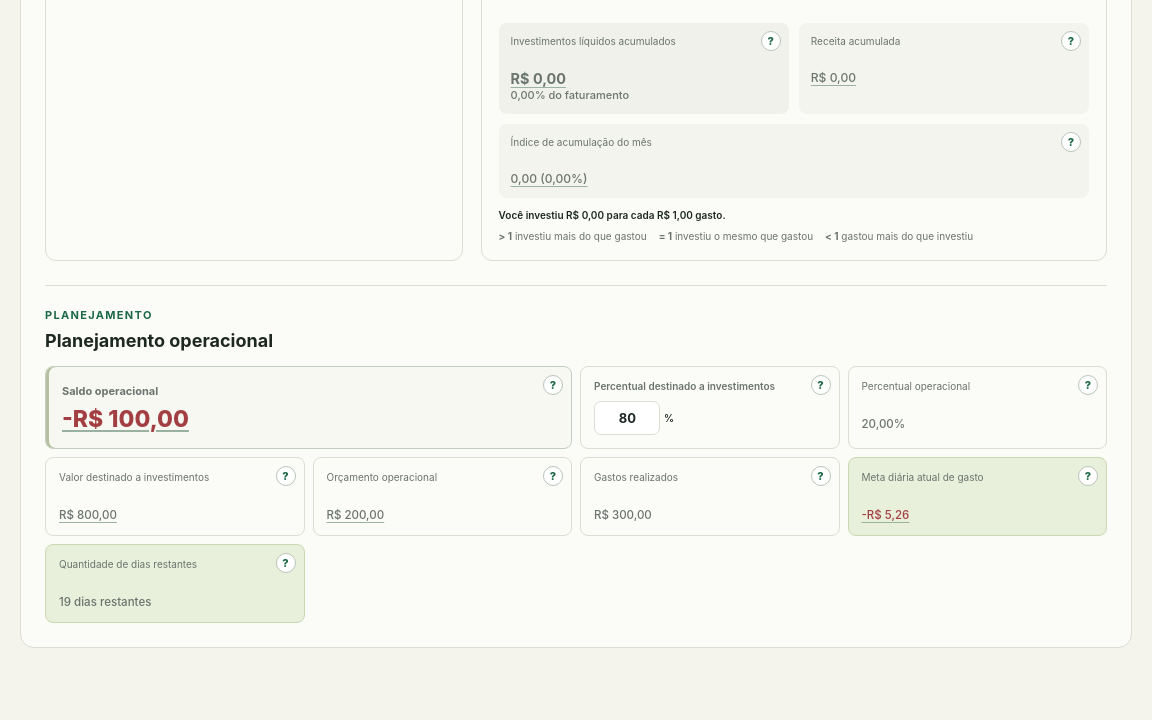
Test: memória de cálculo operacional › fecha por backdrop e botão e mantém a ajuda contextual
This screenshot has width=1152, height=720.
(page scrolled)
Check: the button named "Ajuda sobre Saldo operacional" is shown, box [543, 375, 563, 395]
Step 1. Click the button "-R$ 100,00" → (126,419), box [58, 404, 193, 435]
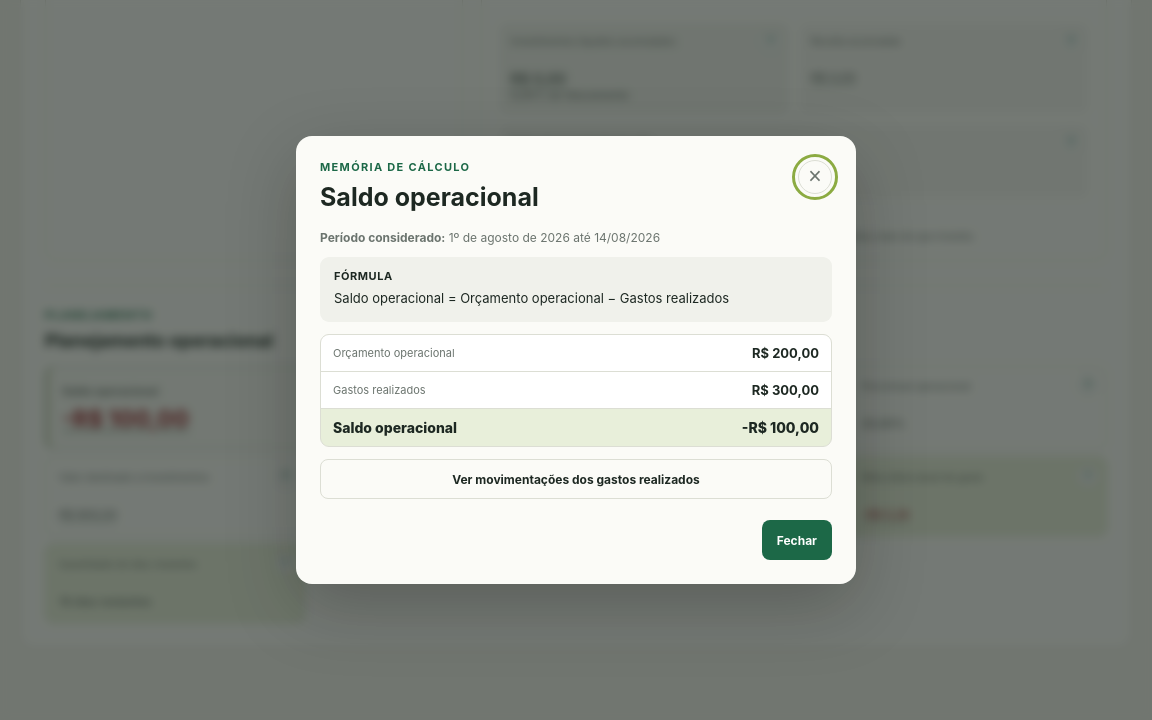
Step 2. Press the mouse on the element with class "modal-backdrop" → (576,360), box [0, 0, 1151, 719]
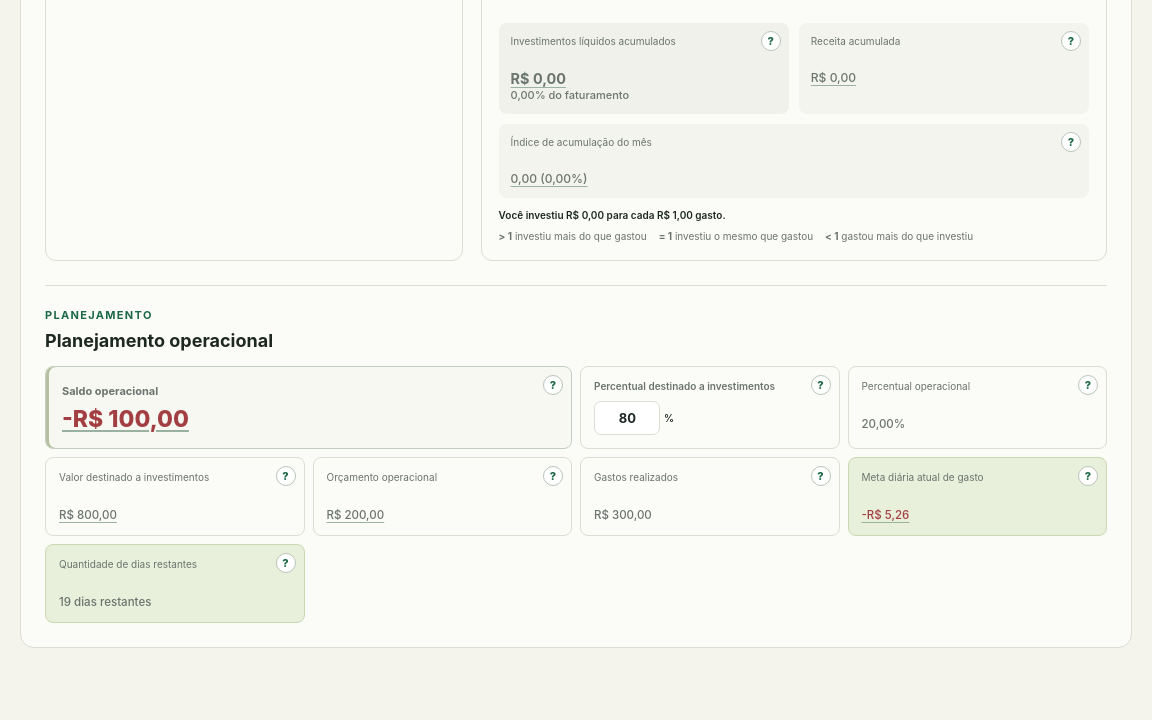
Check: the dialog is gone
Step 3. Click the button "-R$ 5,26" → (885,515), box [858, 504, 913, 526]
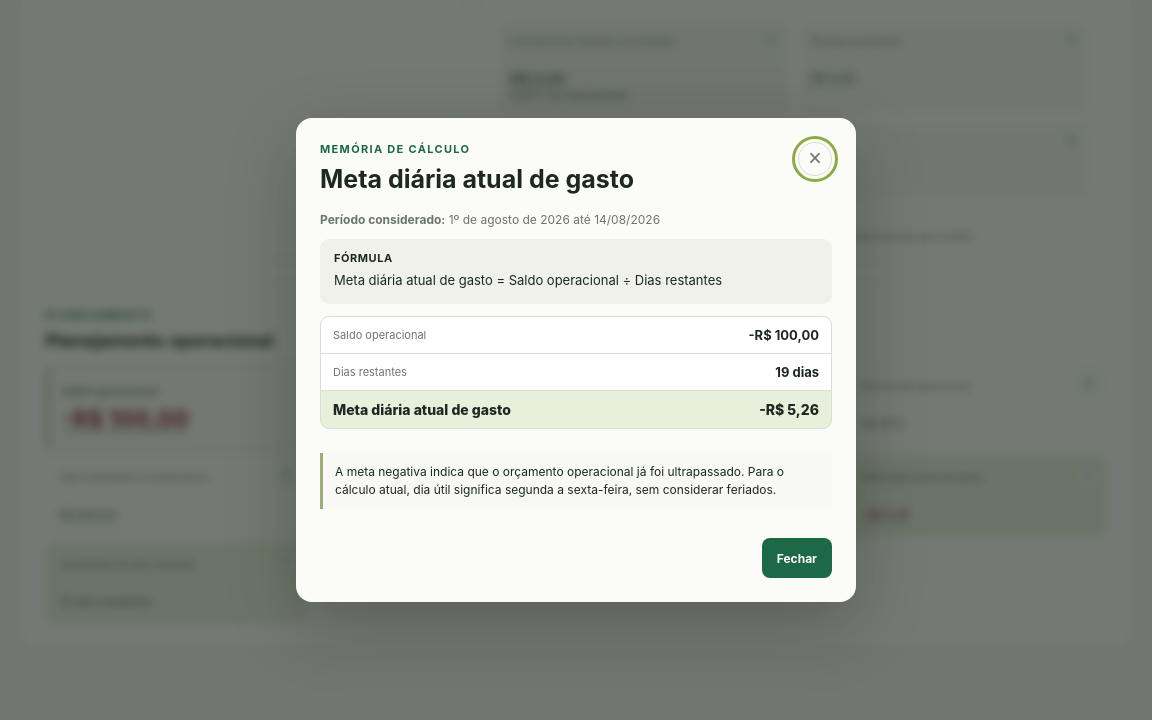
Step 4. Click the button "Fechar" → (797,558), box [762, 538, 832, 578]
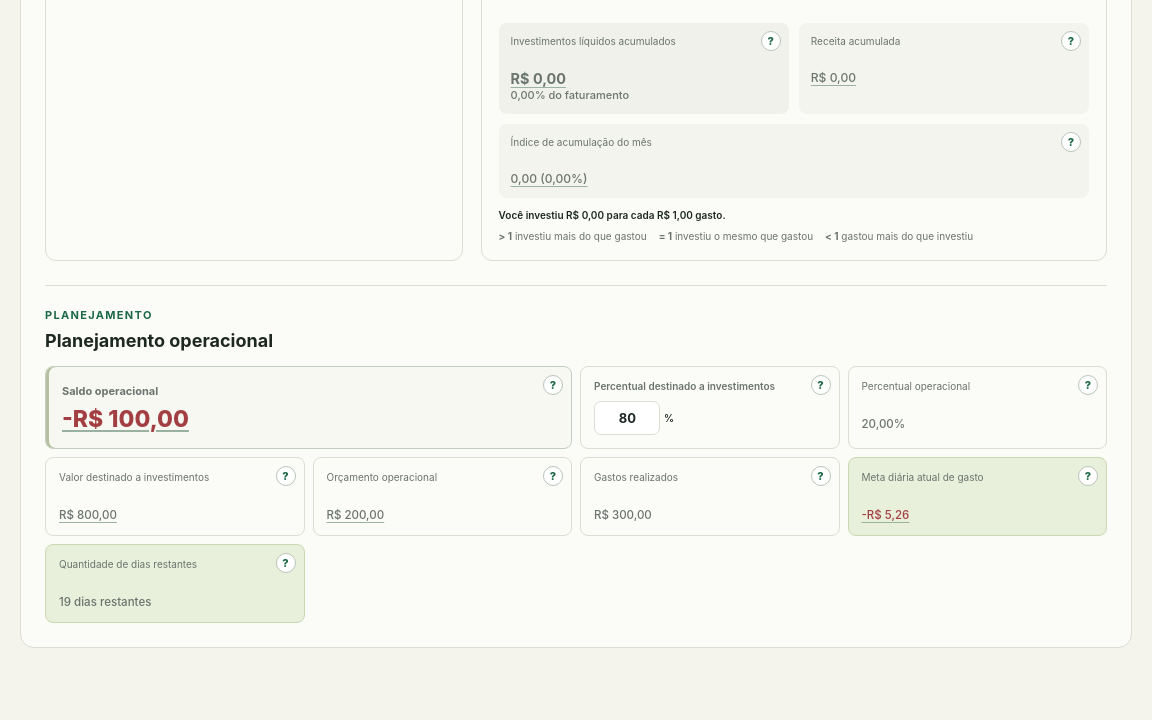
Check: the dialog is gone
